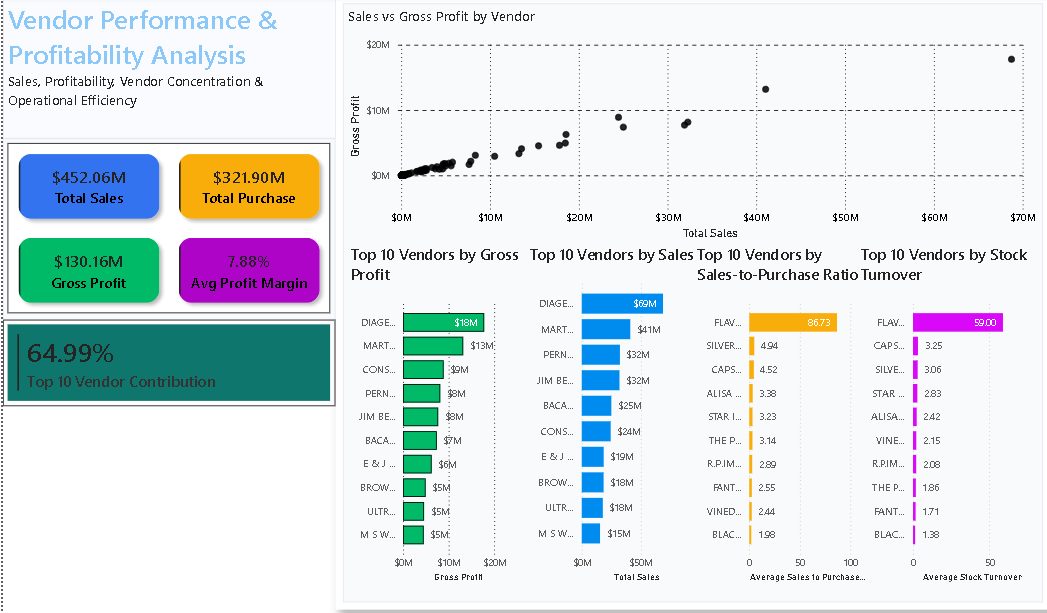

Layout of this report page (visuals, bound fields, positions):
{"tool":"powerbi","page":{"name":"Page 1","canvas":[1280,900],"ordinal":0},"visuals":[{"type":"shape","box":[406.6,0,874.3,750.5],"z":0},{"type":"cardVisual","fields":{"Data":["vendor_analysis vendor_efficiency.Total Sales","vendor_analysis vendor_efficiency.Total Purchase","vendor_analysis vendor_efficiency.Gross Profit","vendor_analysis vendor_efficiency.Average Profit Margin"]},"box":[0,174.3,406.6,221.6],"z":1000},{"type":"clusteredBarChart","title":"Top 10 Vendors by Sales","fields":{"Category":["vendor_analysis vendor_efficiency.VendorName"],"Y":["vendor_analysis vendor_efficiency.Total Sales"]},"box":[639.5,301.9,225,418.5],"z":2000},{"type":"clusteredBarChart","title":"Top 10 Vendors by Gross Profit","fields":{"Category":["vendor_analysis vendor_efficiency.VendorName"],"Y":["vendor_analysis vendor_efficiency.Gross Profit"]},"box":[419.9,301.9,225,418.5],"z":3000},{"type":"clusteredBarChart","title":"Top 10 Vendors by Stock Turnover","fields":{"Category":["vendor_analysis vendor_efficiency.VendorName"],"Y":["vendor_analysis vendor_efficiency.Average Stock Turnover"]},"box":[1044.3,301.9,225,418.5],"z":4000},{"type":"clusteredBarChart","title":"Top 10 Vendors by Sales-to-Purchase Ratio","fields":{"Category":["vendor_analysis vendor_efficiency.VendorName"],"Y":["vendor_analysis vendor_efficiency.Average Sales to Purchase Ratio"]},"box":[843.9,301.9,225,418.5],"z":5000},{"type":"scatterChart","title":"Sales vs Gross Profit by Vendor","fields":{"Y":["vendor_analysis vendor_efficiency.Gross Profit"],"X":["vendor_analysis vendor_efficiency.Total Sales"],"Category":["vendor_analysis vendor_efficiency.VendorName"]},"box":[417.3,12.2,850.8,290.9],"z":6000},{"type":"cardVisual","fields":{"Data":["vendor_analysis vendor_efficiency.Top 10 Vendor Contribution"]},"box":[0,395.9,406.6,105.5],"z":7000},{"type":"textbox","box":[0,0,407,174],"z":8000}]}

Visuals, with their boxes on the page's 1280x900 design canvas (x1, y1, x2, y2). These are canvas units, not pixel positions in the 1047x613 screenshot, which may show the page scaled, cropped or inside an application window:
shape: detection(407, 0, 1281, 750)
cardVisual - vendor_analysis vendor_efficiency.Total Sales x vendor_analysis vendor_efficiency.Total Purchase: detection(0, 174, 407, 396)
"Top 10 Vendors by Sales" clusteredBarChart: detection(640, 302, 864, 720)
"Top 10 Vendors by Gross Profit" clusteredBarChart: detection(420, 302, 645, 720)
"Top 10 Vendors by Stock Turnover" clusteredBarChart: detection(1044, 302, 1269, 720)
"Top 10 Vendors by Sales-to-Purchase Ratio" clusteredBarChart: detection(844, 302, 1069, 720)
"Sales vs Gross Profit by Vendor" scatterChart: detection(417, 12, 1268, 303)
cardVisual - vendor_analysis vendor_efficiency.Top 10 Vendor Contribution: detection(0, 396, 407, 501)
textbox: detection(0, 0, 407, 174)
